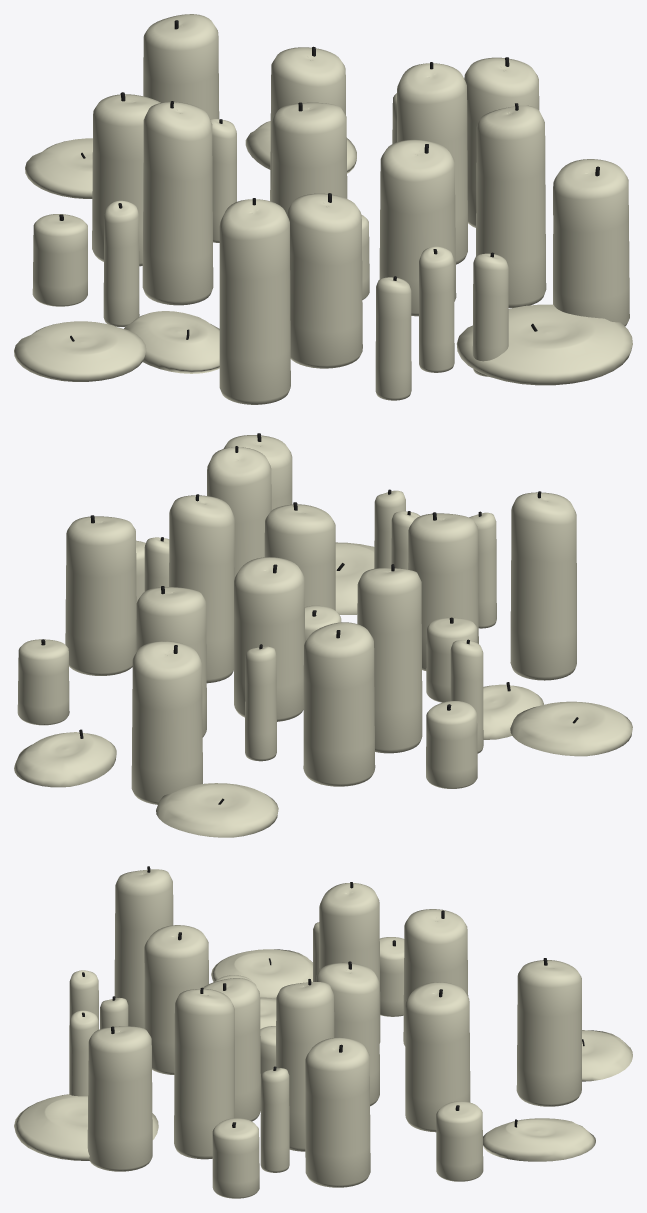
Rendered from InteractableCandlegroup.fbx.
3 views of the same model, one above another, from view 1: azimuth 30°, elevation 25°; view 2: azimuth 150°, elevation 25°; view 3: azimuth 270°, elevation 25° (orthographic). The views are drawn at different scales.
Parts seen in each view (by area): view 1: CANDLEBIGTALL3.006, CANDLEBIGTALL3.007, CANDLEBIG1.010, CANDLEBIGTALL3.008, CANDLEBIG1.024, CANDLEBIG1.015, WICK4.016, CANDLEBIG1.012, CANDLEBIGTALL3.005, CANDLEBIG1.013, CANDLEBIG1.014, WICK4.013 (+12 smaller); view 2: CANDLEBIGTALL3.006, CANDLEBIG1.013, CANDLEBIG1.009, CANDLEBIG1.014, CANDLEBIGTALL3.007, CANDLEBIG1.012, CANDLEBIGTALL3.005, CANDLEBIG1.010, WICK4.013, WICK4.015, CANDLEBIGTALL3.008, CANDLEBIG1.015 (+15 smaller); view 3: CANDLEBIG1.009, CANDLEBIGTALL3.008, CANDLEBIG1.014, CANDLEBIG1.024, CANDLEBIG1.011, CANDLEBIG1.010, CANDLEBIGTALL3.006, CANDLEBIGTALL3.005, CANDLEBIGTALL3.007, CANDLEBIG1.013, CANDLEBIG1.012, WICK4.016 (+13 smaller).
Boxes of the visible parts, <box> form: CANDLEBIGTALL3.006: <box>219,198,290,404</box>; CANDLEBIGTALL3.007: <box>142,101,213,305</box>; CANDLEBIG1.010: <box>287,193,362,368</box>; CANDLEBIGTALL3.008: <box>476,103,546,307</box>; CANDLEBIG1.024: <box>553,159,629,326</box>; CANDLEBIG1.015: <box>379,139,456,316</box>; WICK4.016: <box>456,304,632,385</box>; CANDLEBIG1.012: <box>271,102,347,214</box>; CANDLEBIGTALL3.005: <box>397,62,467,264</box>; CANDLEBIG1.013: <box>92,92,160,266</box>; CANDLEBIG1.014: <box>143,14,219,119</box>; WICK4.013: <box>14,321,146,381</box>; CANDLEBIGTALL3.006: <box>510,491,576,680</box>; CANDLEBIG1.013: <box>303,622,375,786</box>; CANDLEBIG1.009: <box>65,515,136,675</box>; CANDLEBIG1.014: <box>131,641,202,804</box>; CANDLEBIGTALL3.007: <box>357,564,422,753</box>; CANDLEBIG1.012: <box>234,557,304,721</box>; CANDLEBIGTALL3.005: <box>169,494,234,683</box>; CANDLEBIG1.010: <box>408,512,478,670</box>; WICK4.013: <box>510,701,632,756</box>; WICK4.015: <box>156,783,278,837</box>; CANDLEBIGTALL3.008: <box>207,446,271,576</box>; CANDLEBIG1.015: <box>264,502,335,610</box>; CANDLEBIG1.009: <box>305,1037,370,1187</box>; CANDLEBIGTALL3.008: <box>174,987,234,1159</box>; CANDLEBIG1.014: <box>516,958,581,1106</box>; CANDLEBIG1.024: <box>87,1026,152,1171</box>; CANDLEBIG1.011: <box>405,982,470,1132</box>; CANDLEBIG1.010: <box>144,925,208,1074</box>; CANDLEBIGTALL3.006: <box>114,866,173,1028</box>; CANDLEBIGTALL3.005: <box>276,979,334,1151</box>; CANDLEBIGTALL3.007: <box>319,882,380,1043</box>; CANDLEBIG1.013: <box>403,909,468,1046</box>; CANDLEBIG1.012: <box>316,961,379,1106</box>; WICK4.016: <box>14,1094,158,1160</box>.
Size of the model in its own units: 3603 by 1151 by 3963.
